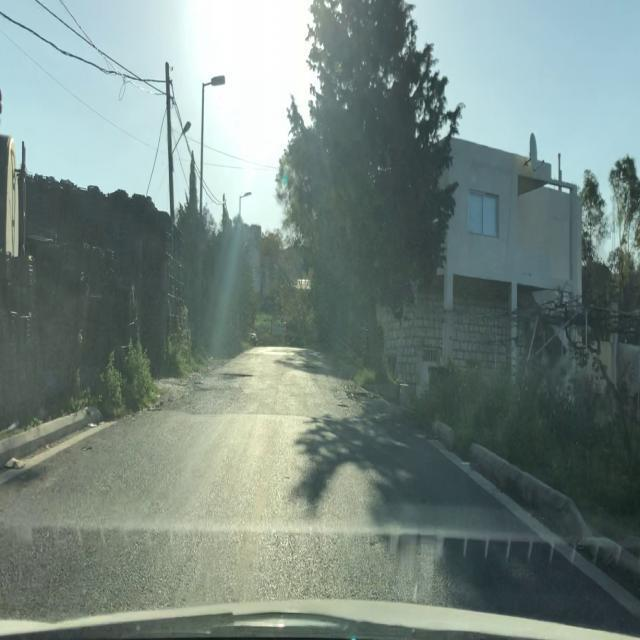pothole: (352, 389, 379, 402), (218, 373, 254, 378), (335, 402, 350, 410)
